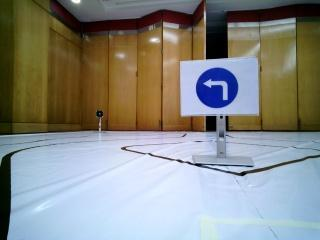left: (182, 61, 256, 114)
